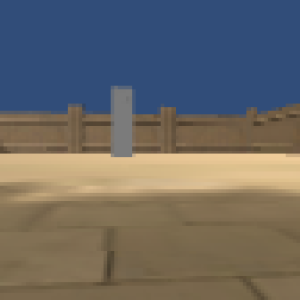wall: (110, 86, 135, 159)
